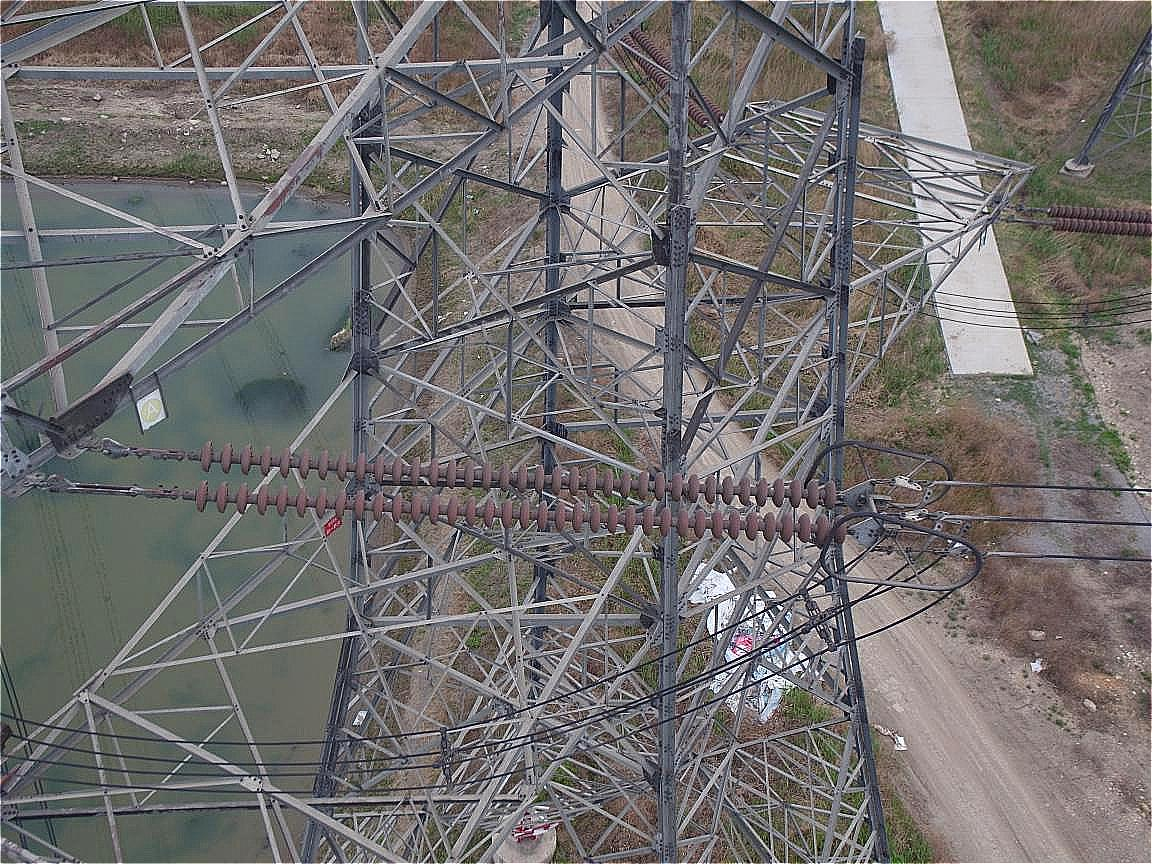insultor1: (129, 432, 888, 568)
